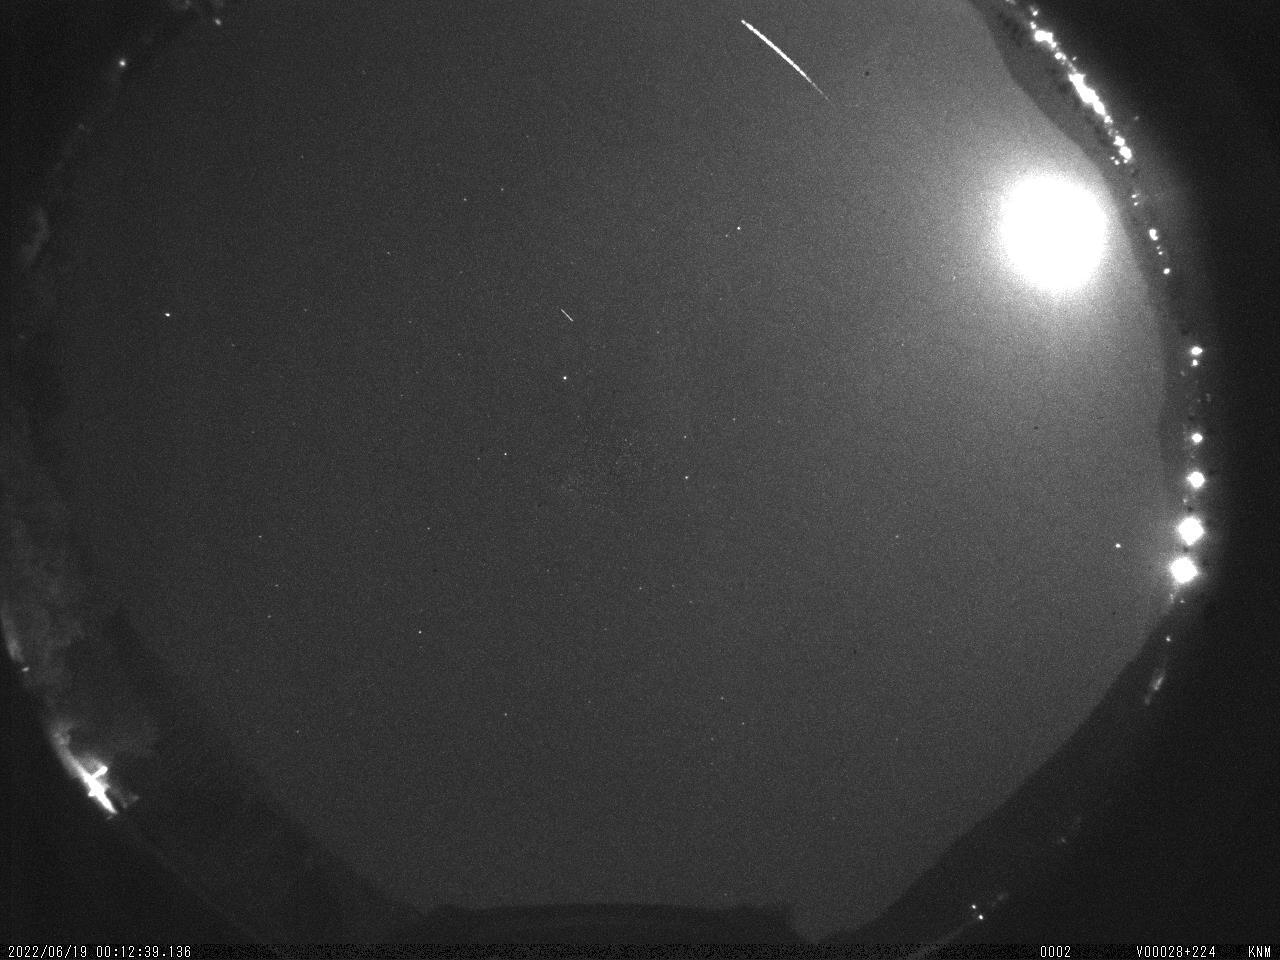Meteor: (739, 16, 833, 102)
